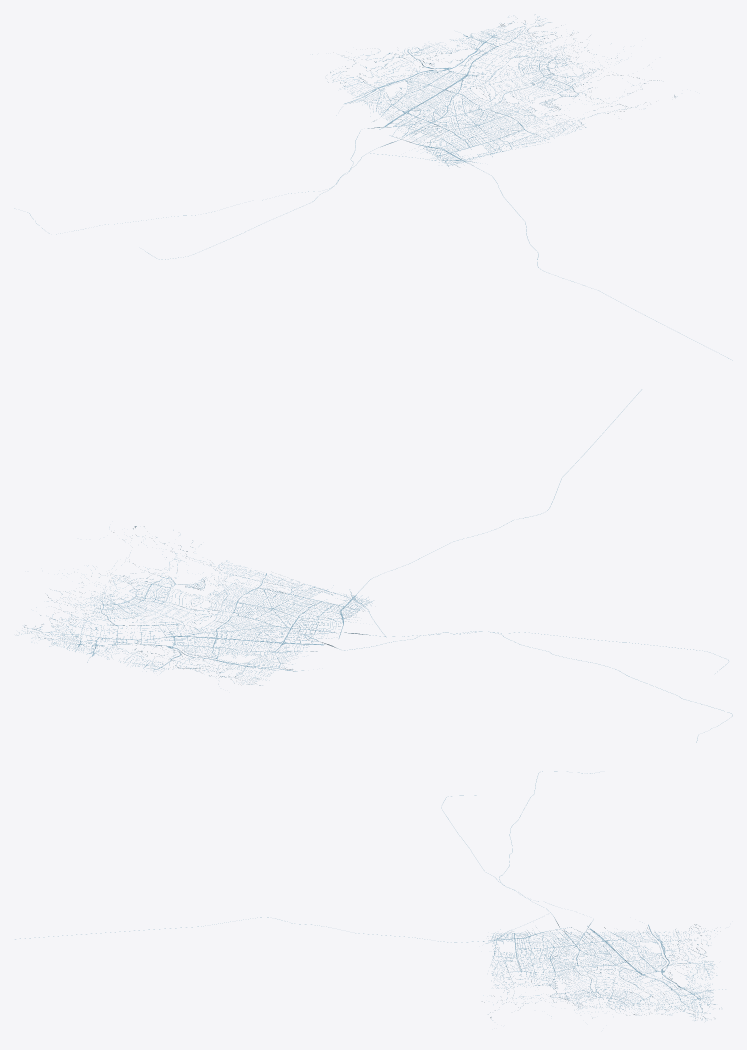
The model's file is roads.glb.
3 renders of one model, top to bottom at view 1: azimuth 30°, elevation 25°; view 2: azimuth 150°, elevation 25°; view 3: azimuth 270°, elevation 25°, orthographic. The views are drawn at different scales.
Visible parts, largest first — view 1: roads; view 2: roads; view 3: roads.
Boxes of the visible parts, box(x1,y1,x2,y2) form: roads: box(14, 14, 732, 360); roads: box(17, 389, 732, 742); roads: box(15, 771, 725, 1021).
Size of the model in its own units: 26606 by 1193 by 29437.
